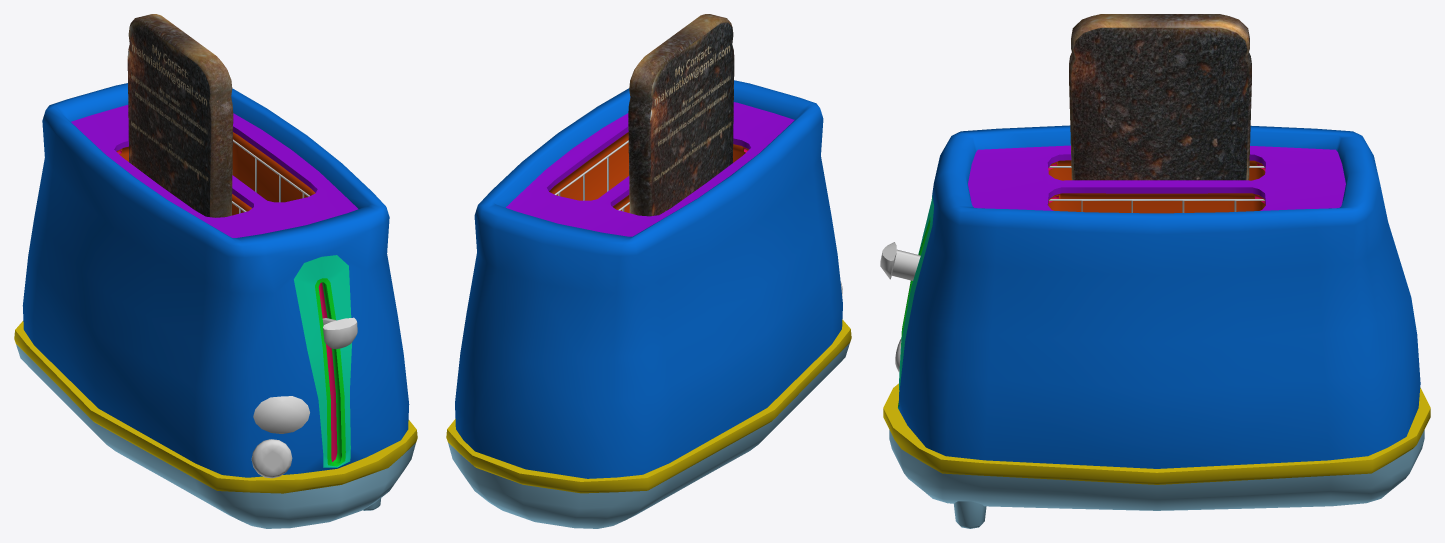
File: toaster.fbx
3 renders of one model, left to right at view 1: azimuth 30°, elevation 25°; view 2: azimuth 150°, elevation 25°; view 3: azimuth 270°, elevation 25°, orthographic. The views are drawn at different scales.
Visible parts, largest first — view 1: toaster, Bread_Slice, glass, button, MainTriger; view 2: toaster, Bread_Slice; view 3: toaster, Bread_Slice, MainTriger.
Boxes of the visible parts, box(x1,y1,x2,y2) form: toaster: box(14, 83, 417, 528); Bread_Slice: box(127, 14, 233, 217); glass: box(253, 396, 309, 433); button: box(251, 439, 292, 478); MainTriger: box(322, 317, 357, 349); toaster: box(446, 80, 851, 528); Bread_Slice: box(628, 14, 734, 216); toaster: box(883, 125, 1430, 528); Bread_Slice: box(1069, 14, 1251, 180); MainTriger: box(880, 242, 920, 280).
Size of the model in its own units: 218 by 355 by 389.
